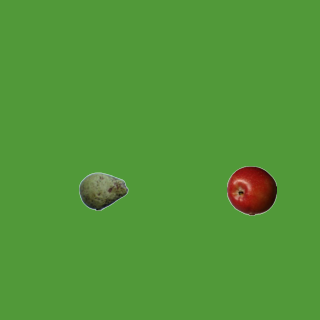Apple Braeburn: (226, 165, 276, 215)
Pear Stone: (78, 166, 128, 216)
